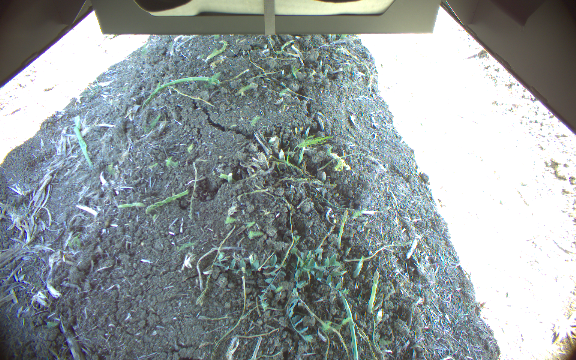aspa: (366, 268, 379, 315), (336, 209, 348, 242)
